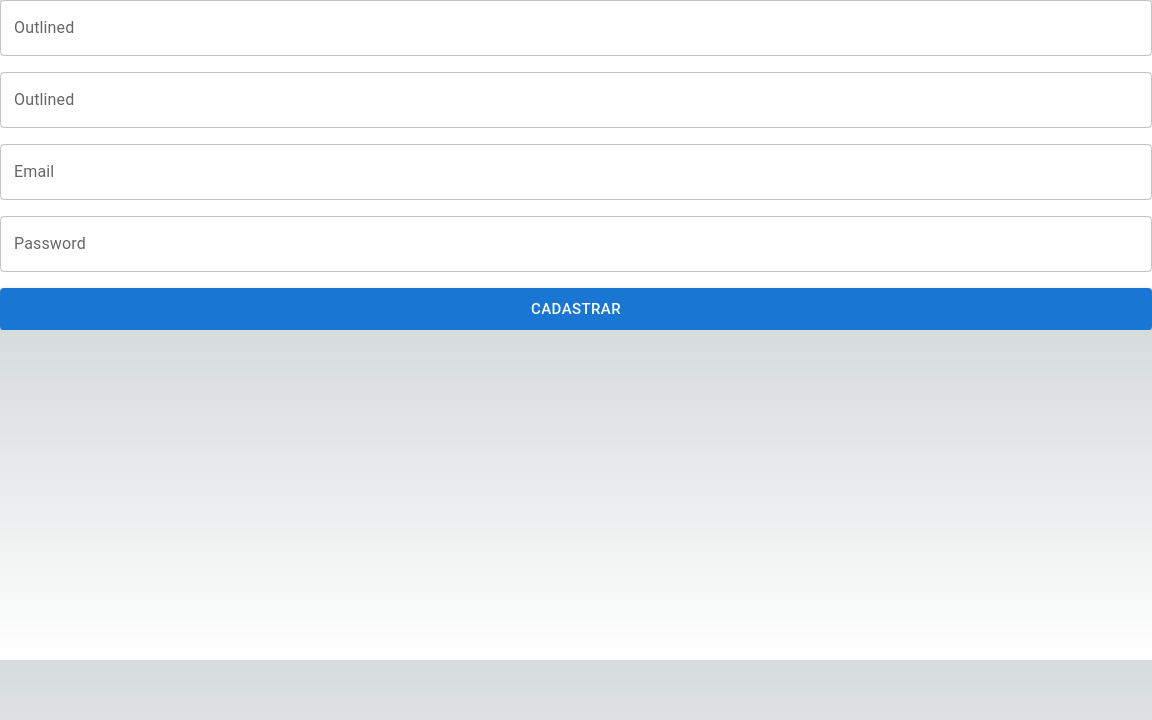
Test: <FormComponent /> › checks if password field renders the invalid email message
This screenshot has width=1152, height=720.
Type "123" into the field labelled "Password" at (576, 244), box [0,216,1151,272]
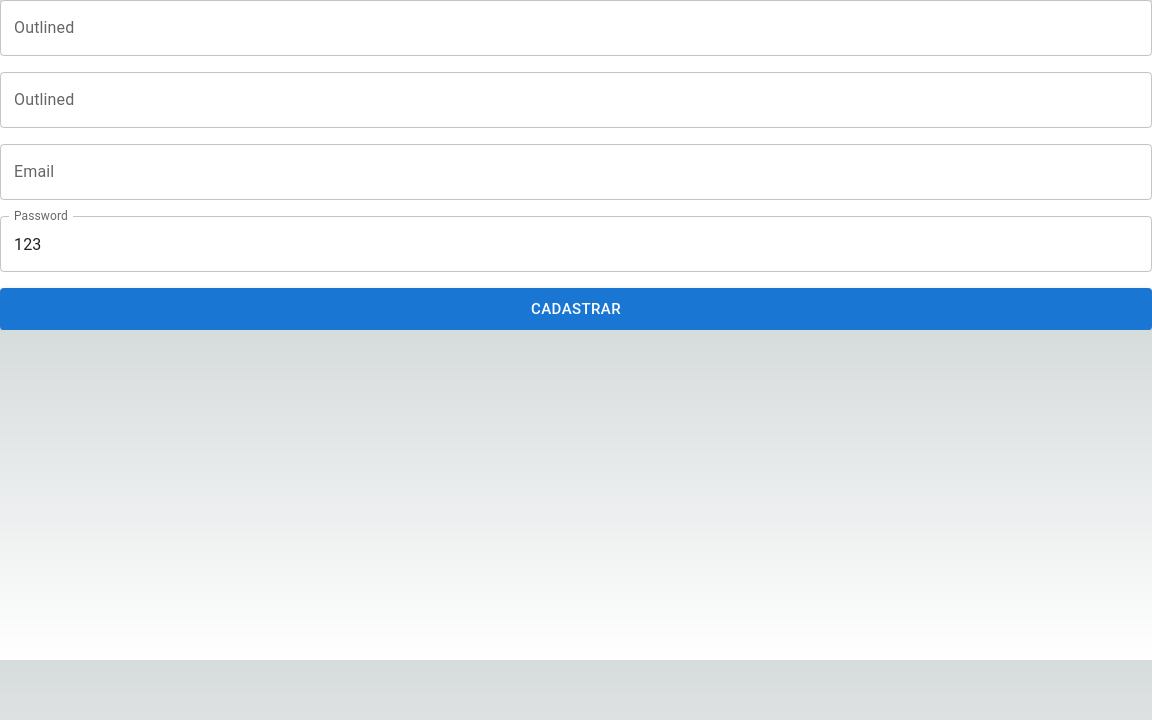
Click the button at (576, 309), box [0,288,1151,330]
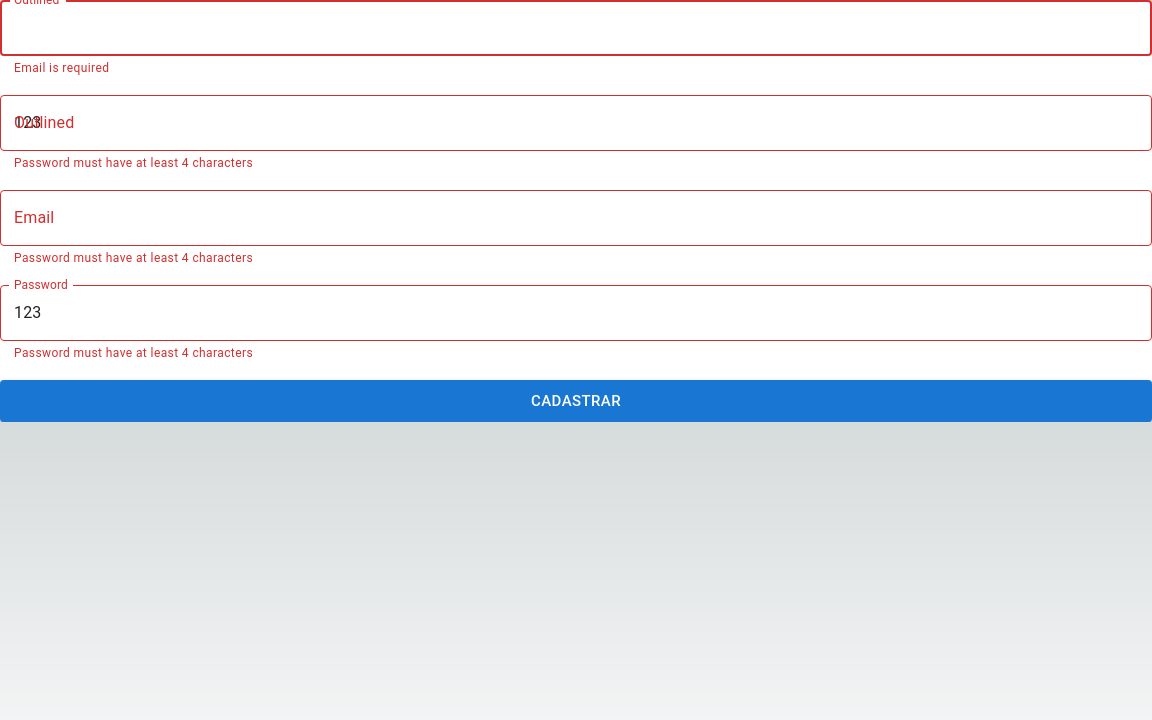
Expected: the text "Password must have at least 4 characters" is shown, [14,156,253,170]
